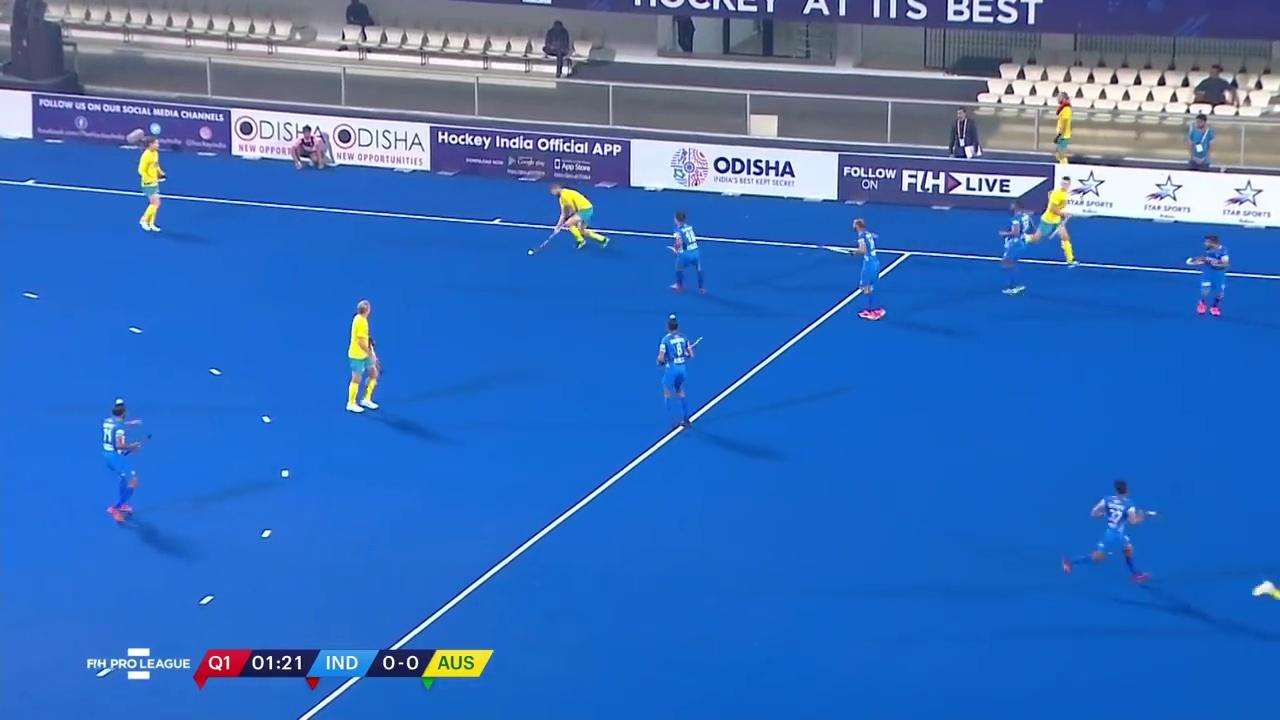ball: (526, 248, 535, 257)
